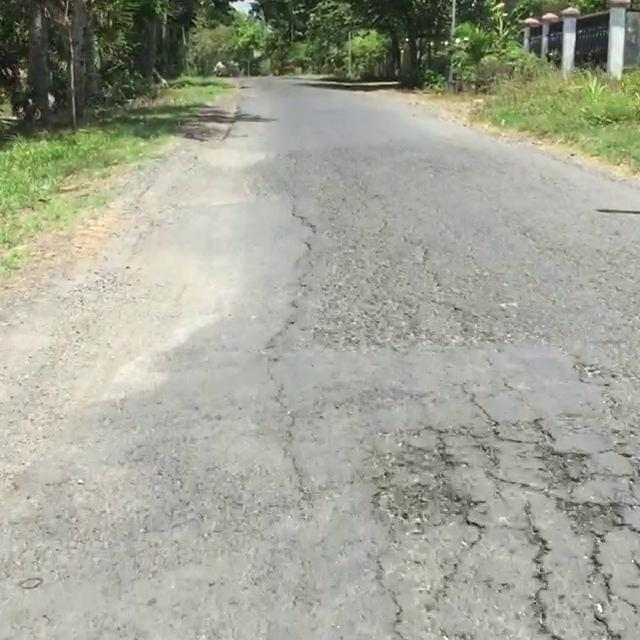retak_kulit_buaya: (508, 492, 640, 640)
retak_memanjang: (219, 180, 339, 510)
